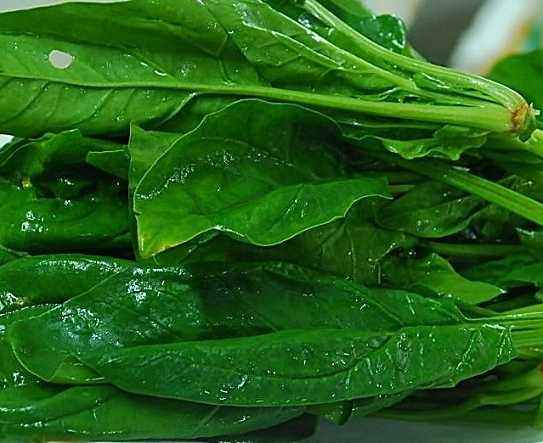bocai: (13, 268, 507, 405), (283, 1, 535, 146)
